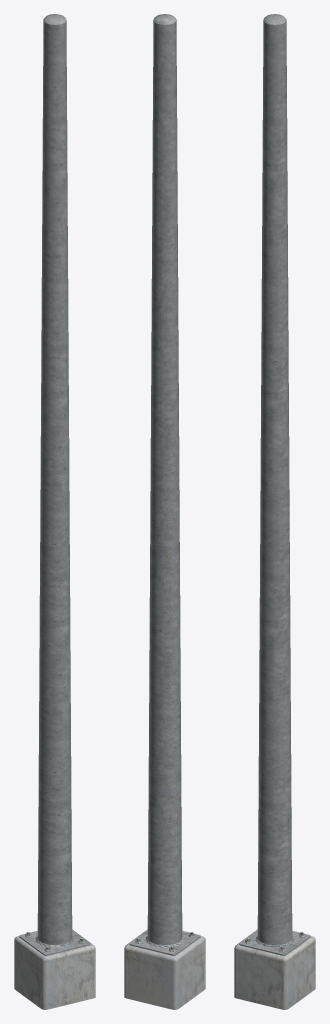
File: Signal_Post_30ft.fbx
3 views of the same model, side by side, from view 1: azimuth 30°, elevation 25°; view 2: azimuth 150°, elevation 25°; view 3: azimuth 330°, elevation 25° (orthographic).
Parts seen in each view (by area): view 1: signal_post_30_mesh; view 2: signal_post_30_mesh; view 3: signal_post_30_mesh.
Part boxes in pixels (x1,y1,x2,y2): signal_post_30_mesh: (14,14,95,1009); signal_post_30_mesh: (124,14,205,1009); signal_post_30_mesh: (234,14,315,1009).
Size of the model in its own units: 55.88 by 55.88 by 970.
Materials: 2 (2 with a texture image).
